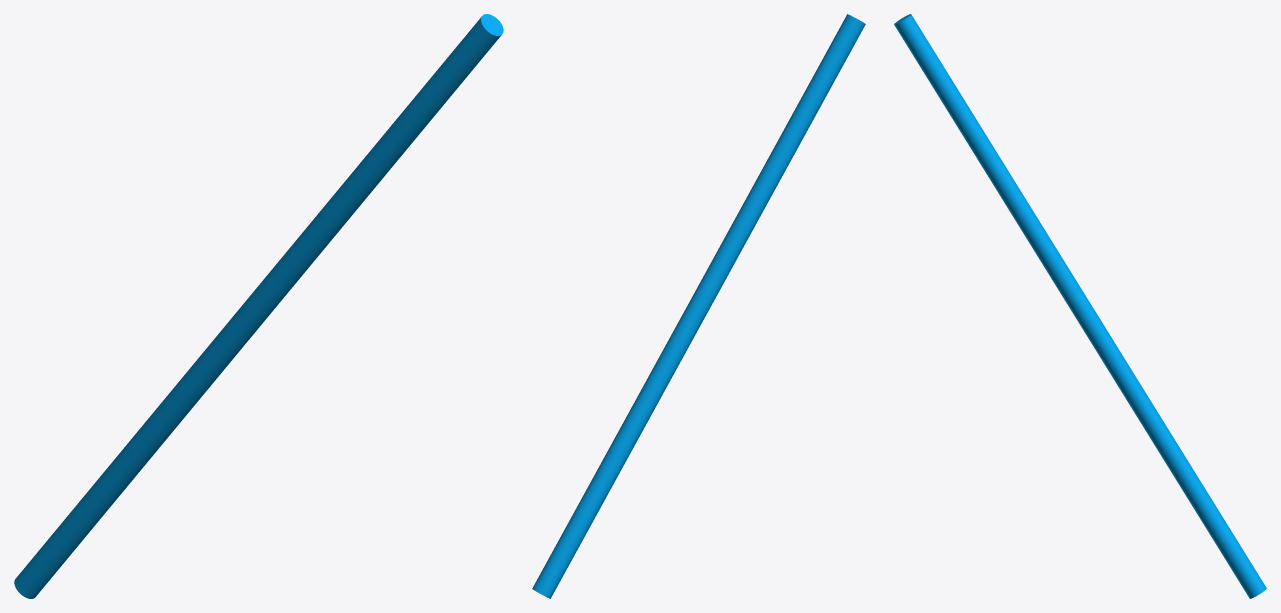
Rendered from cableLine.fbx.
3 renders of one model, left to right at view 1: azimuth 90°, elevation 25°; view 2: azimuth 150°, elevation 25°; view 3: azimuth 270°, elevation 25°, orthographic. The views are drawn at different scales.
Visible parts, largest first — view 1: root; view 2: root; view 3: root.
Boxes of the visible parts, box(x1,y1,x2,y2) form: root: box(14, 14, 503, 598); root: box(532, 14, 865, 598); root: box(894, 14, 1266, 598).
Bounding box in the file's own units: 0.5906 × 1.73 × 1.14.
1 material, 1 textured.
